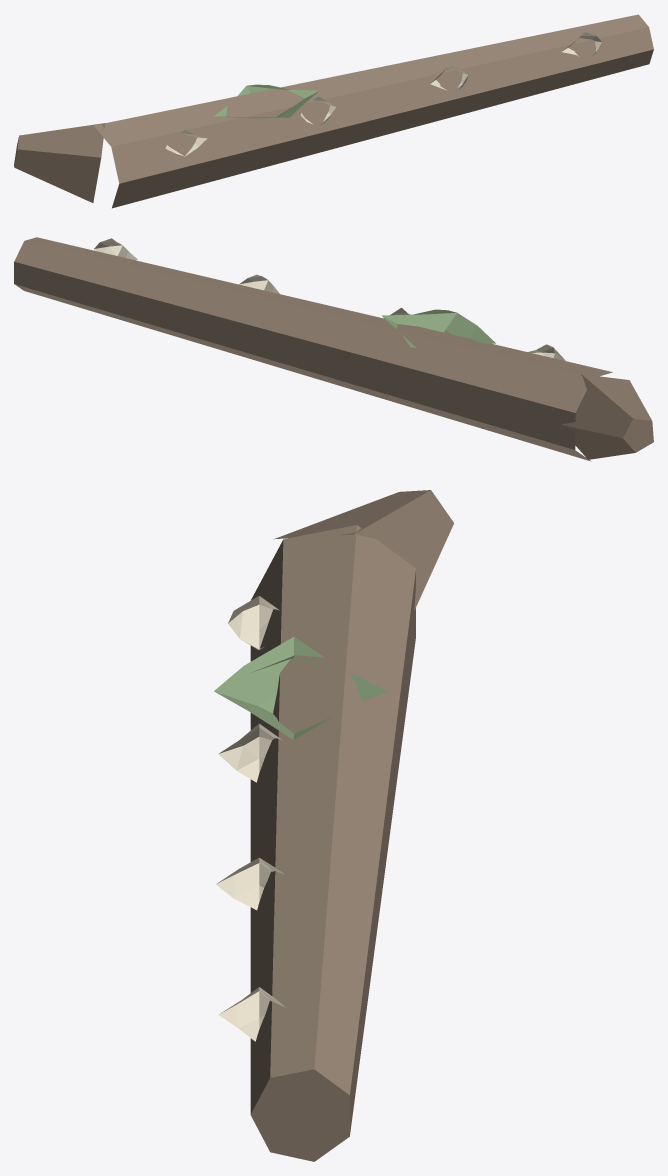
Rendered from log_v05.glb.
3 renders of one model, top to bottom at view 1: azimuth 30°, elevation 25°; view 2: azimuth 150°, elevation 25°; view 3: azimuth 270°, elevation 25°, orthographic. The views are drawn at different scales.
Visible parts, largest first — view 1: lod0; view 2: lod0; view 3: lod0.
Part boxes in pixels (box(x1,y1,x2,y2)): lod0: box(14, 14, 653, 208); lod0: box(14, 237, 653, 461); lod0: box(214, 490, 453, 1161).
Size of what is drawn, in the model's own units: 3.84 by 0.5461 by 0.6628.
